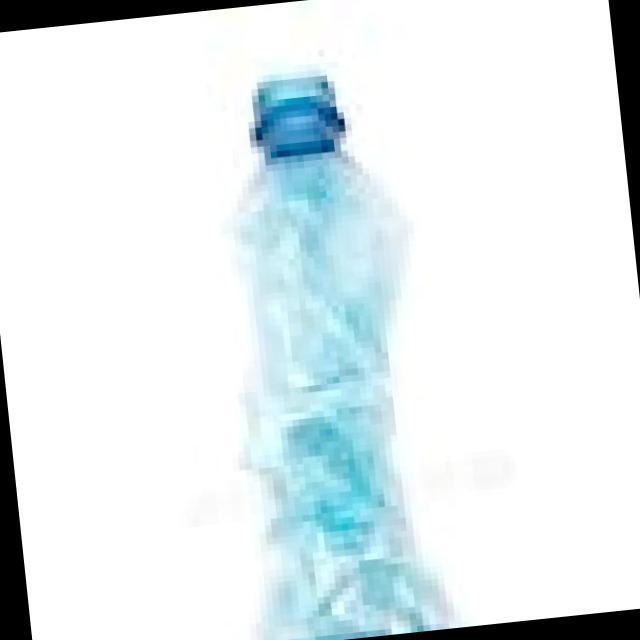defected: (158, 35, 488, 640)
